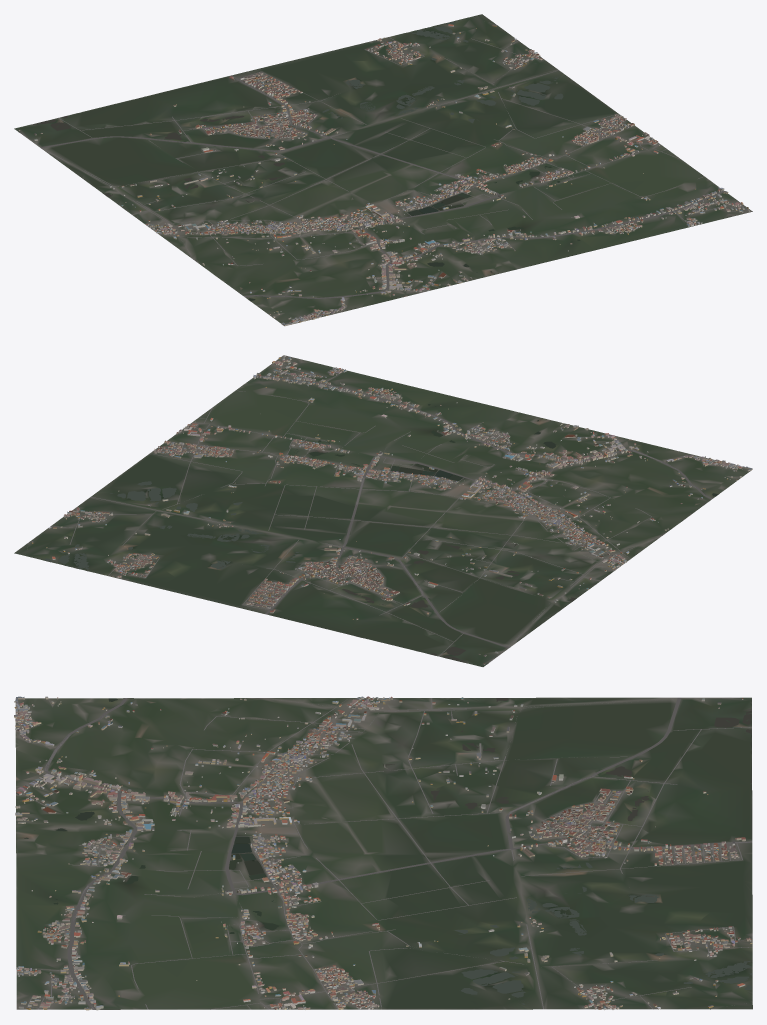
3 views of the same model, one above another, from view 1: azimuth 30°, elevation 25°; view 2: azimuth 150°, elevation 25°; view 3: azimuth 270°, elevation 25° (orthographic). The views are drawn at different scales.
Visible parts, largest first — view 1: ground, buildings, roads, water; view 2: ground, buildings, roads, water; view 3: ground, buildings, roads, water.
Part boxes in pixels (bbox=[...]): ground: bbox=[14, 14, 752, 325]; buildings: bbox=[18, 24, 750, 325]; roads: bbox=[18, 22, 749, 314]; water: bbox=[34, 22, 580, 301]; ground: bbox=[14, 355, 749, 666]; buildings: bbox=[31, 355, 752, 664]; roads: bbox=[25, 358, 714, 664]; water: bbox=[44, 404, 718, 662]; ground: bbox=[15, 697, 752, 1009]; buildings: bbox=[14, 696, 752, 1010]; roads: bbox=[16, 697, 752, 1009]; water: bbox=[24, 698, 752, 1006].
Bounding box in the file's own units: 2817 × 22.18 × 2814.
